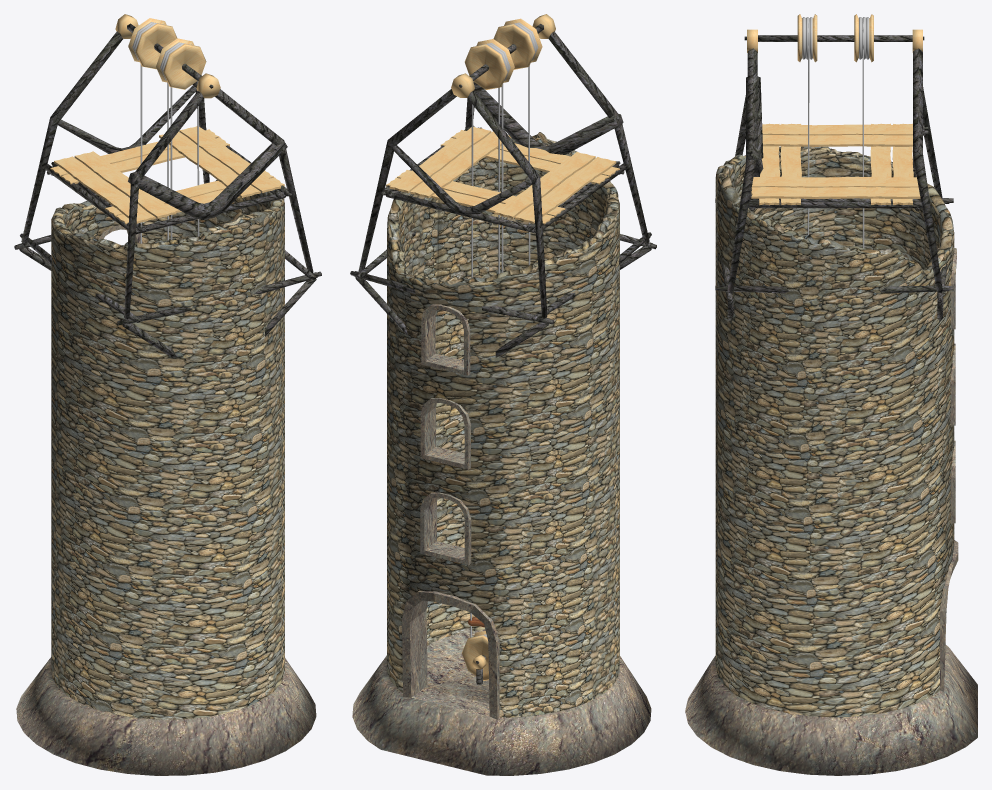
File: realtower.gltf
3 views of the same model, side by side, from view 1: azimuth 30°, elevation 25°; view 2: azimuth 150°, elevation 25°; view 3: azimuth 270°, elevation 25° (orthographic). The views are drawn at different scales.
Parts seen in each view (by area): view 1: tower, pipe, plank, pulley, ropes, bushing; view 2: tower, pipe, window frames, plank, pulley, ropes, pulley.001, bushing; view 3: tower, pipe, plank, window frames, pulley, ropes.
Part boxes in pixels (left/top/right/bottom): tower: left=16, top=180, right=316, bottom=775; pipe: left=14, top=23, right=321, bottom=357; plank: left=50, top=126, right=284, bottom=224; pulley: left=128, top=18, right=206, bottom=89; ropes: left=140, top=64, right=199, bottom=243; bushing: left=115, top=14, right=220, bottom=98; tower: left=352, top=132, right=651, bottom=775; pipe: left=350, top=24, right=656, bottom=357; window frames: left=402, top=304, right=499, bottom=719; plank: left=386, top=126, right=619, bottom=224; pulley: left=464, top=18, right=542, bottom=90; ropes: left=470, top=65, right=530, bottom=637; pulley.001: left=462, top=631, right=488, bottom=680; bushing: left=451, top=14, right=555, bottom=97; tower: left=685, top=146, right=977, bottom=775; pipe: left=715, top=35, right=953, bottom=321; plank: left=751, top=123, right=920, bottom=205; window frames: left=937, top=248, right=958, bottom=691; pulley: left=797, top=14, right=873, bottom=62; ropes: left=807, top=21, right=864, bottom=248.
Size of the model in its own units: 6.27 by 15.7 by 5.98.
